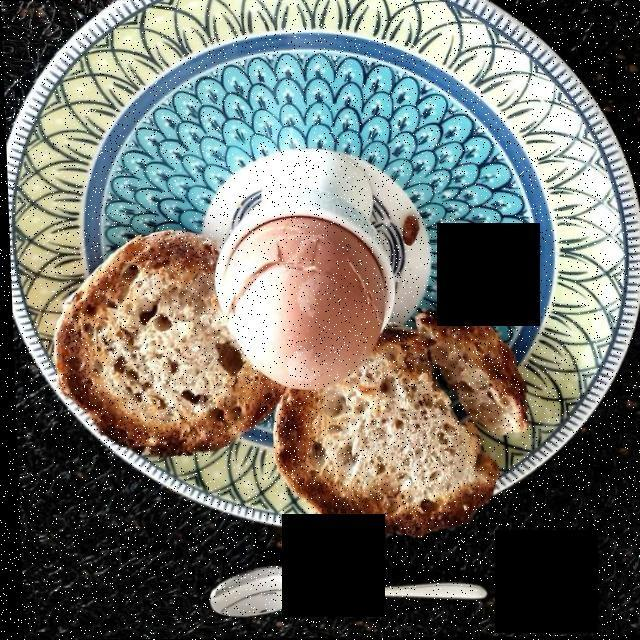bread: (49, 209, 543, 523)
egg: (212, 216, 379, 389)
